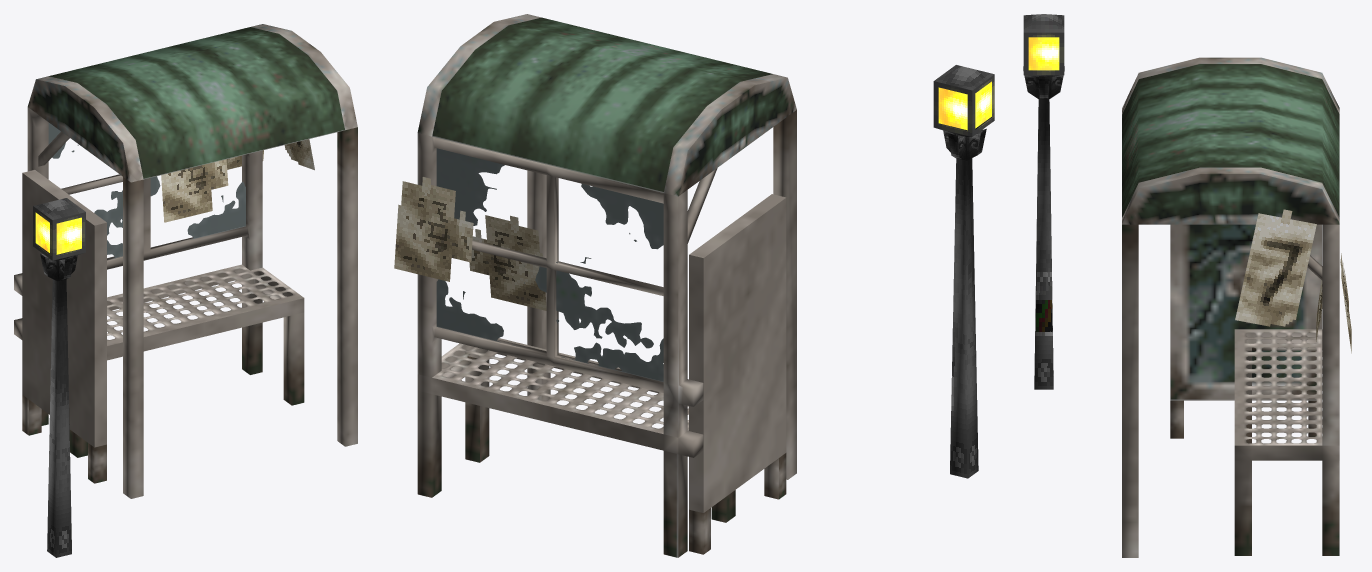
The model's file is Bus stop.fbx.
The picture shows the model from 3 angles, left to right: view 1: azimuth 30°, elevation 25°; view 2: azimuth 150°, elevation 25°; view 3: azimuth 270°, elevation 25°; orthographic projection. The views are drawn at different scales.
Visible parts, largest first — view 1: bus stop, Cubo, Plano.001, glass; view 2: bus stop, Cubo, glass, Plano.001; view 3: bus stop, Cubo, Plano.001.
Boxes of the visible parts, x1,y1,x2,y2 form: bus stop: [14, 24, 357, 498]; Cubo: [33, 198, 85, 557]; Plano.001: [161, 139, 314, 222]; glass: [48, 122, 245, 259]; bus stop: [417, 14, 796, 557]; Cubo: [933, 65, 994, 478]; glass: [436, 148, 663, 381]; Plano.001: [394, 177, 546, 310]; bus stop: [1122, 57, 1339, 557]; Cubo: [1023, 14, 1064, 389]; Plano.001: [1235, 209, 1351, 353].
Bounding box in the file's own units: 356 × 341 × 264.
3 materials, 3 textured.
